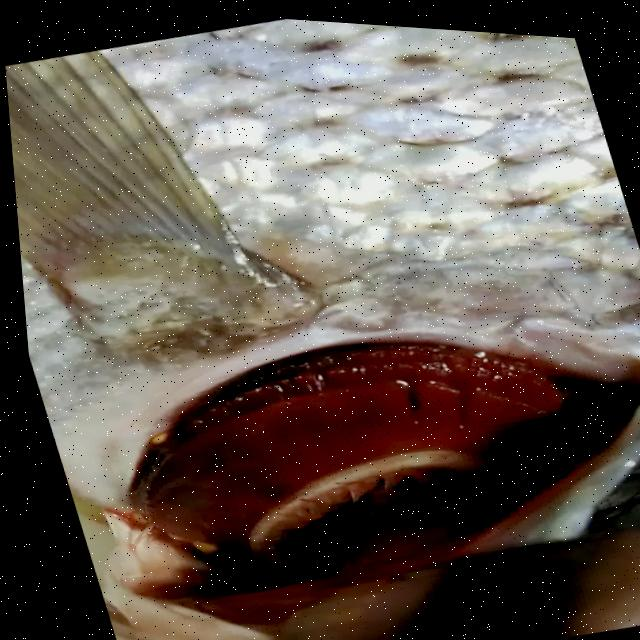Fresh: (45, 232, 640, 640)
